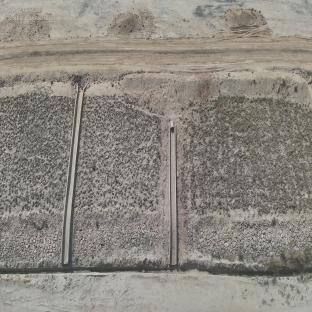rock_toe: (180, 222, 312, 267), (75, 223, 168, 259), (1, 226, 60, 262)
slope_drain: (61, 83, 88, 265), (169, 120, 177, 266)
toe_drain: (0, 262, 312, 279)
